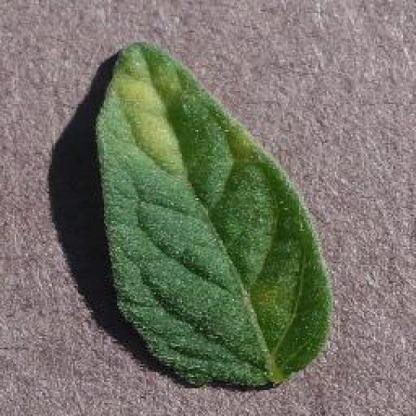Tomato_Leaf_Mold: (95, 40, 329, 387)
